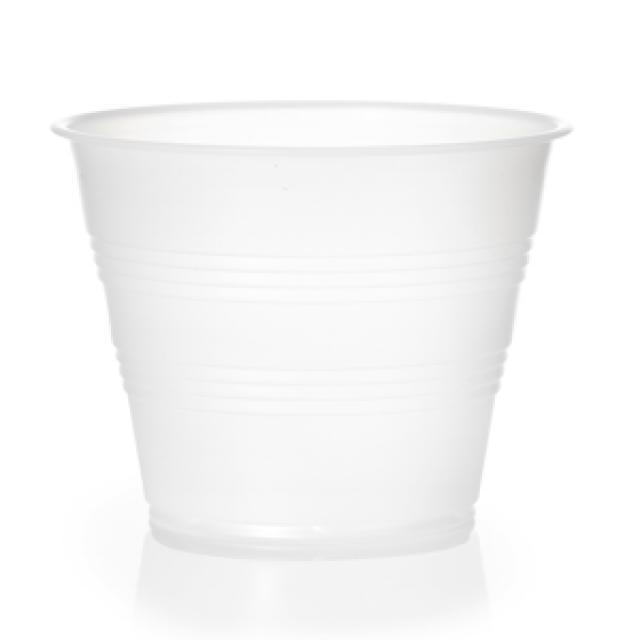plastic cup: (47, 94, 578, 563)
